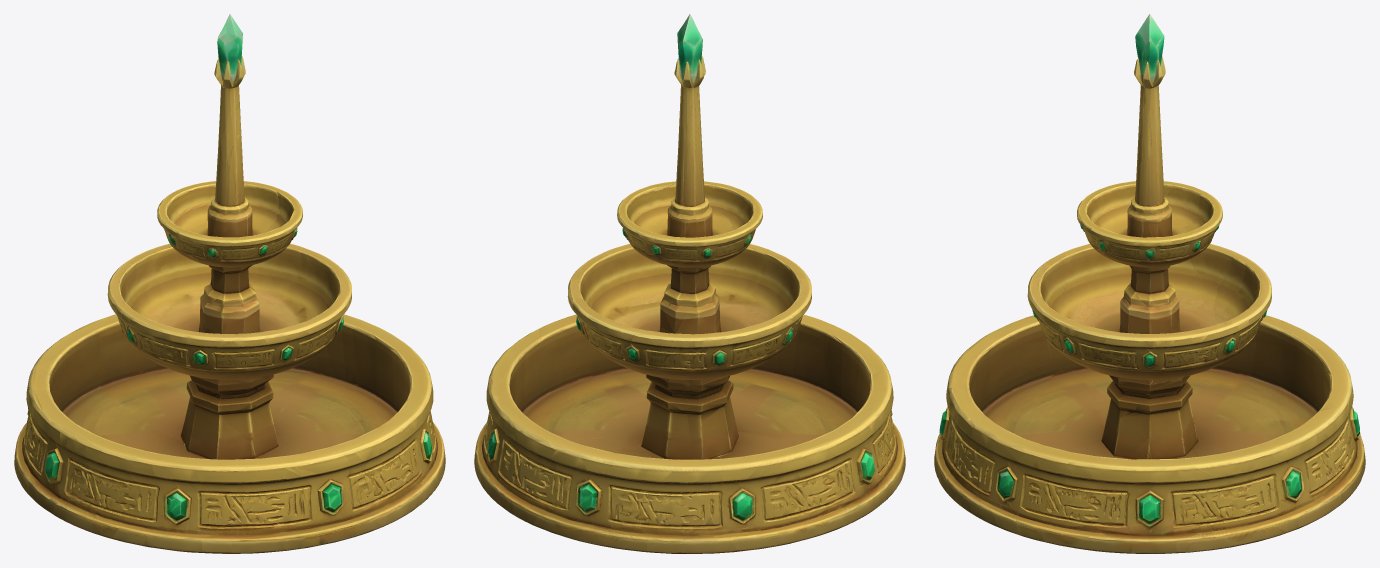
The model's file is et_fountain.glb.
3 renders of one model, left to right at view 1: azimuth 30°, elevation 25°; view 2: azimuth 150°, elevation 25°; view 3: azimuth 270°, elevation 25°, orthographic.
Size of the model in its own units: 1.64 by 1.9 by 1.64.
Materials: 1 (1 with a texture image).
